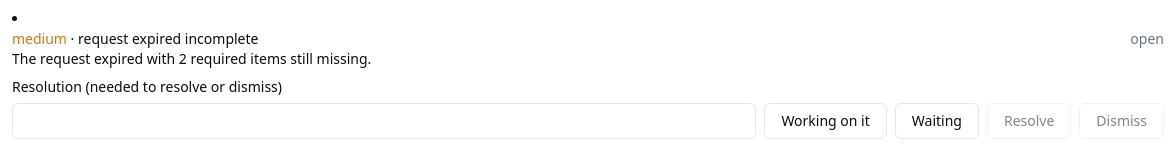
Scenario: ExceptionRow › asks for a resolution before closing
Type "Called the client" into the field labelled "Resolution (needed to resolve or dismiss)" at [384, 121], box [12,103,756,139]
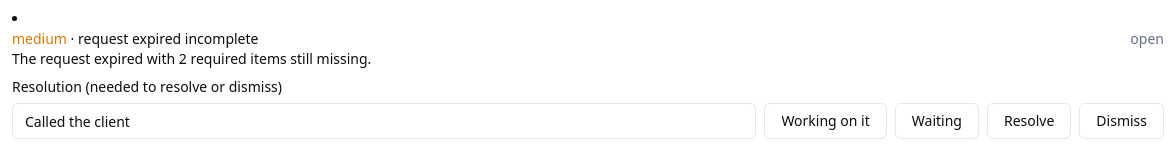
Expected: the button "Resolve" is enabled, [987,103,1071,139]
Expected: the button "Dismiss" is enabled, [1079,103,1164,139]
